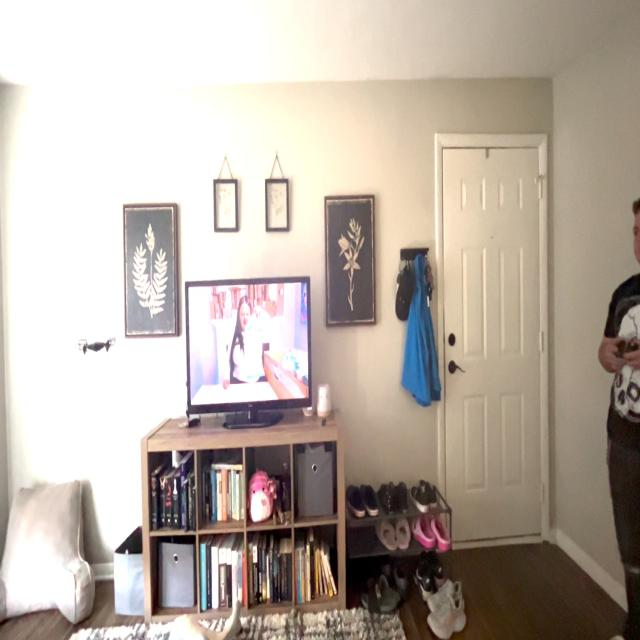drone: (70, 328, 131, 377)
